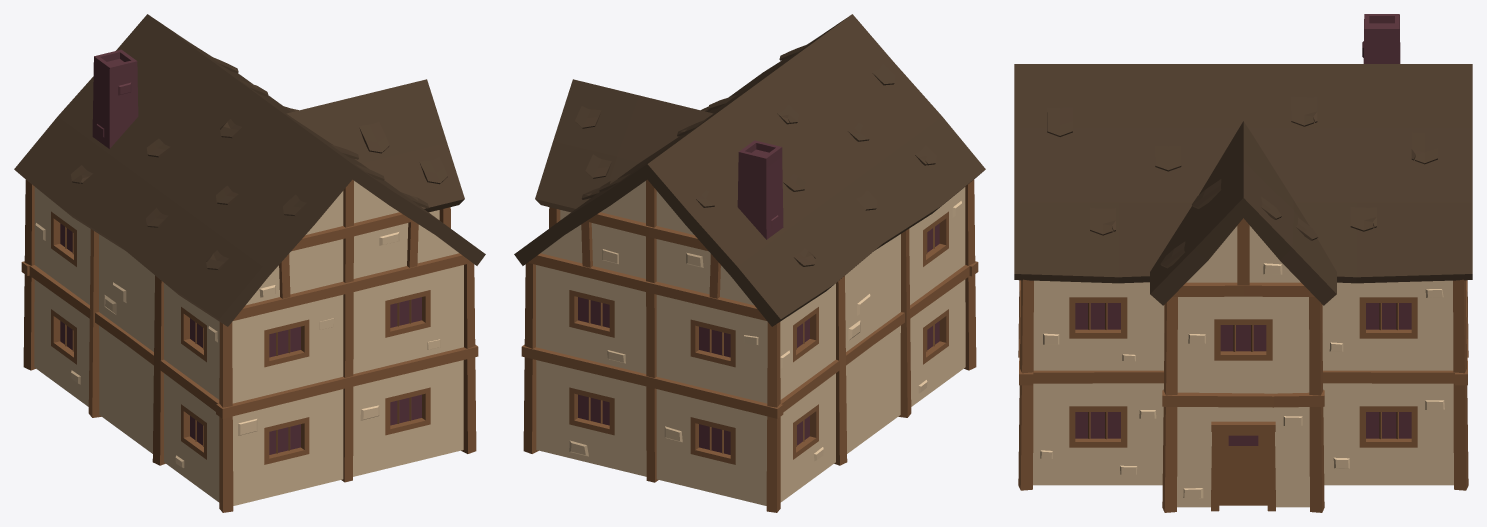
File: house-medieval-big.fbx
3 views of the same model, side by side, from view 1: azimuth 30°, elevation 25°; view 2: azimuth 150°, elevation 25°; view 3: azimuth 270°, elevation 25° (orthographic). The views are drawn at different scales.
Visible parts, largest first — view 1: house-medieval-big; view 2: house-medieval-big; view 3: house-medieval-big.
Boxes of the visible parts, x1,y1,x2,y2 form: house-medieval-big: (14,14,485,512); house-medieval-big: (514,14,985,512); house-medieval-big: (1014,14,1472,512).
Bounding box in the file's own units: 8.17 × 8.06 × 9.28.
